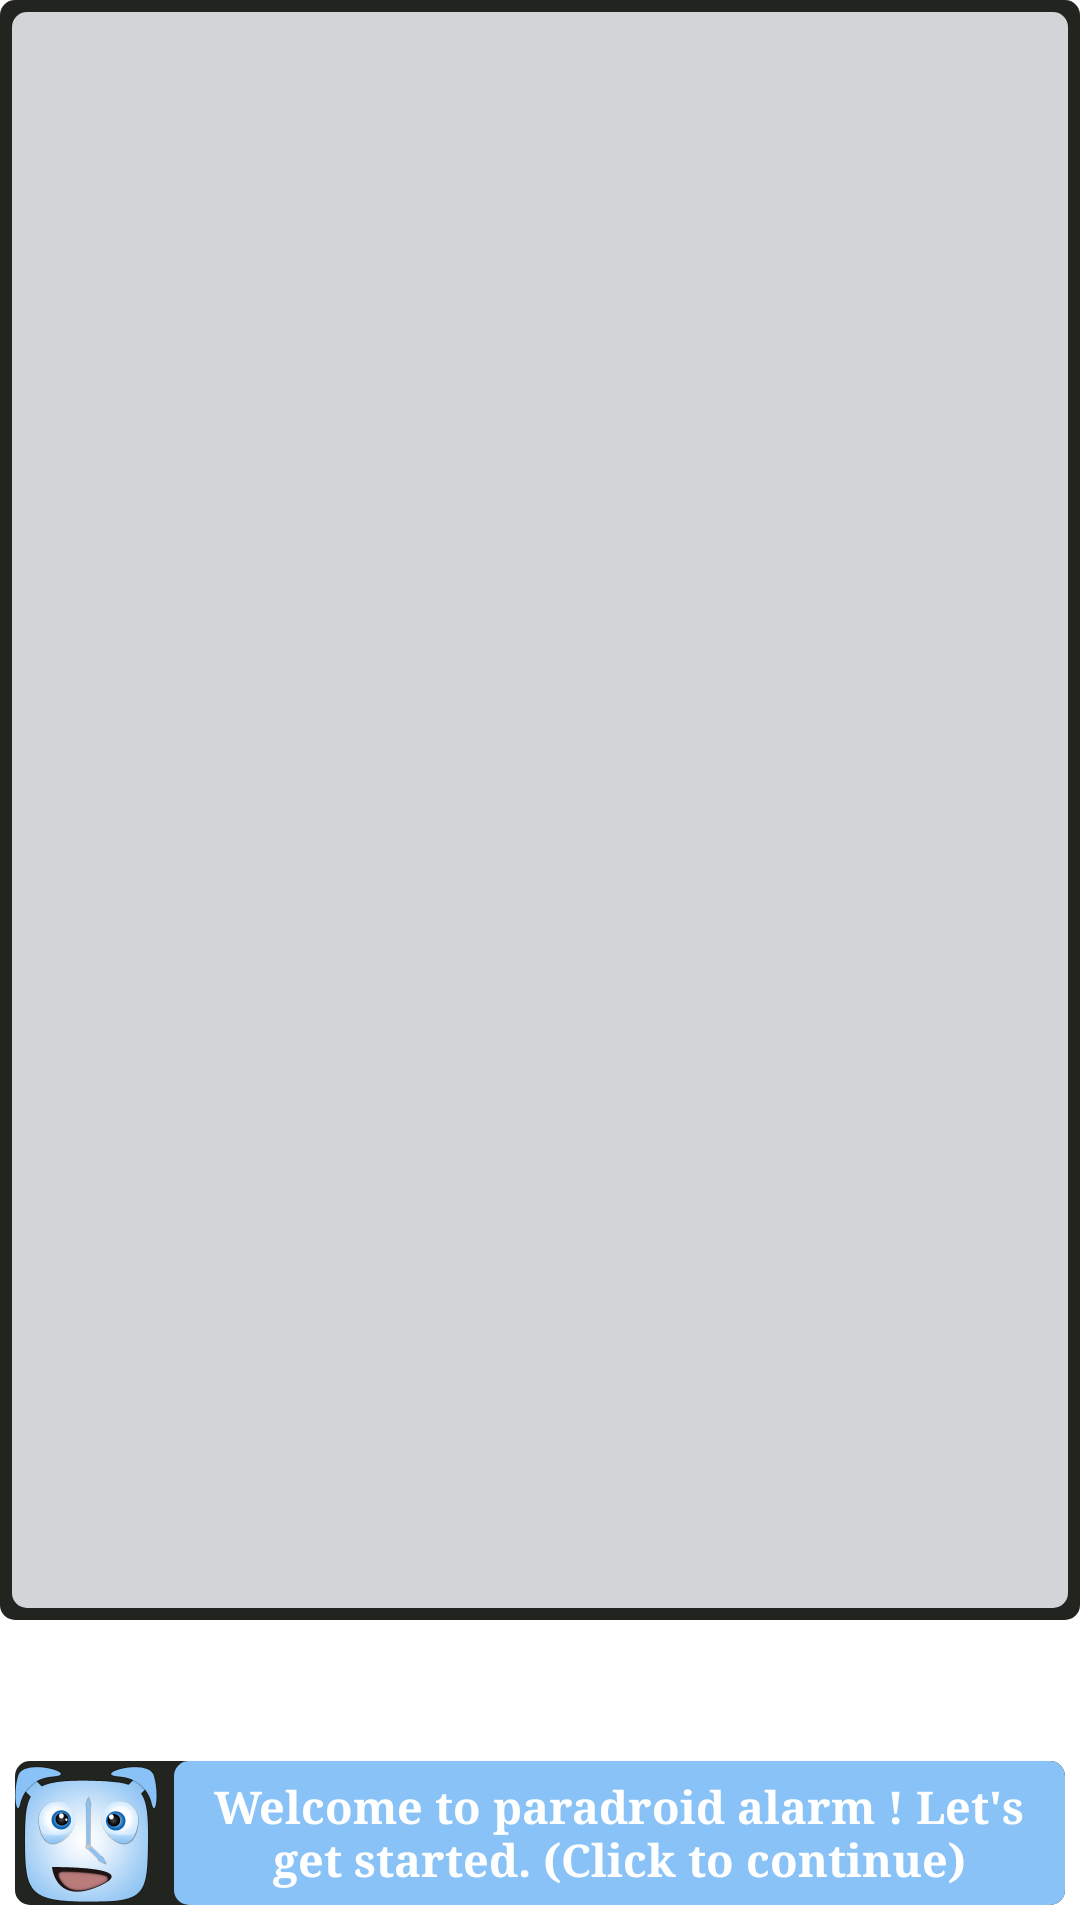

Named icons in this screenshot (1080×1920) and their bounding boxes, {"left": x1, "top": y1, "right": x2, "bottom": y2}:
smile: {"left": 15, "top": 1761, "right": 159, "bottom": 1905}
